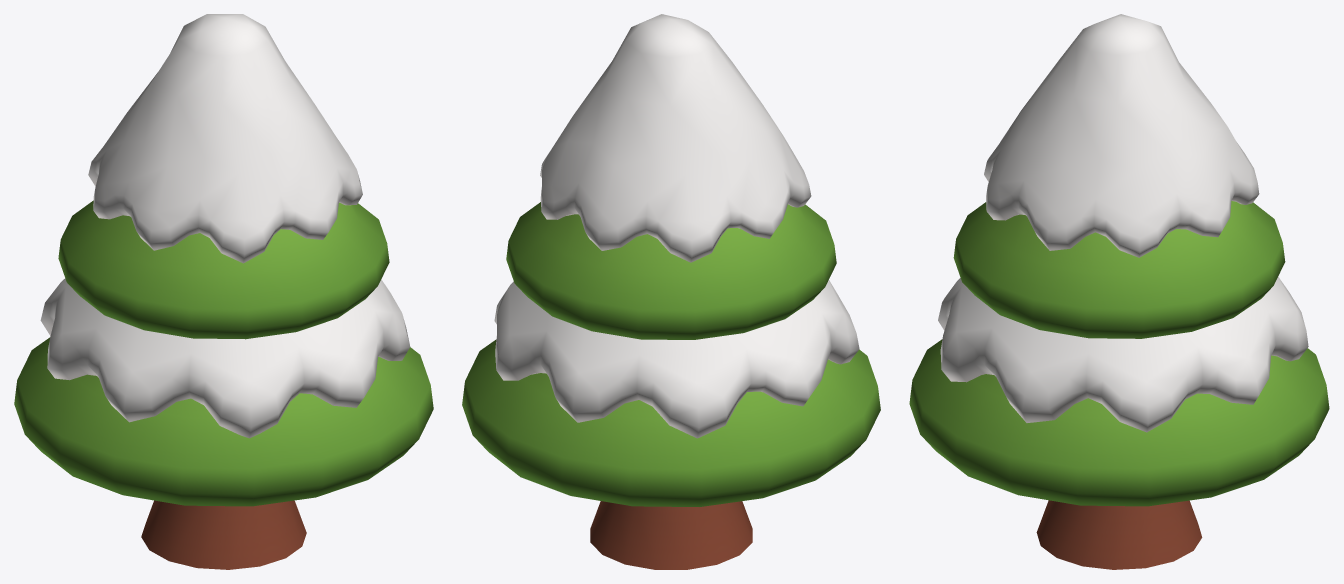
Rendered from Christmass_tree_outdoor_002.fbx.
3 views of the same model, side by side, from view 1: azimuth 30°, elevation 25°; view 2: azimuth 150°, elevation 25°; view 3: azimuth 270°, elevation 25° (orthographic).
Visible parts, largest first — view 1: Christmass_tree_outdoor_002; view 2: Christmass_tree_outdoor_002; view 3: Christmass_tree_outdoor_002.
Boxes of the visible parts, <box> form: Christmass_tree_outdoor_002: <box>14,14,433,569</box>; Christmass_tree_outdoor_002: <box>462,14,880,569</box>; Christmass_tree_outdoor_002: <box>909,14,1329,569</box>.
Size of the model in its own units: 179 by 180 by 245.
